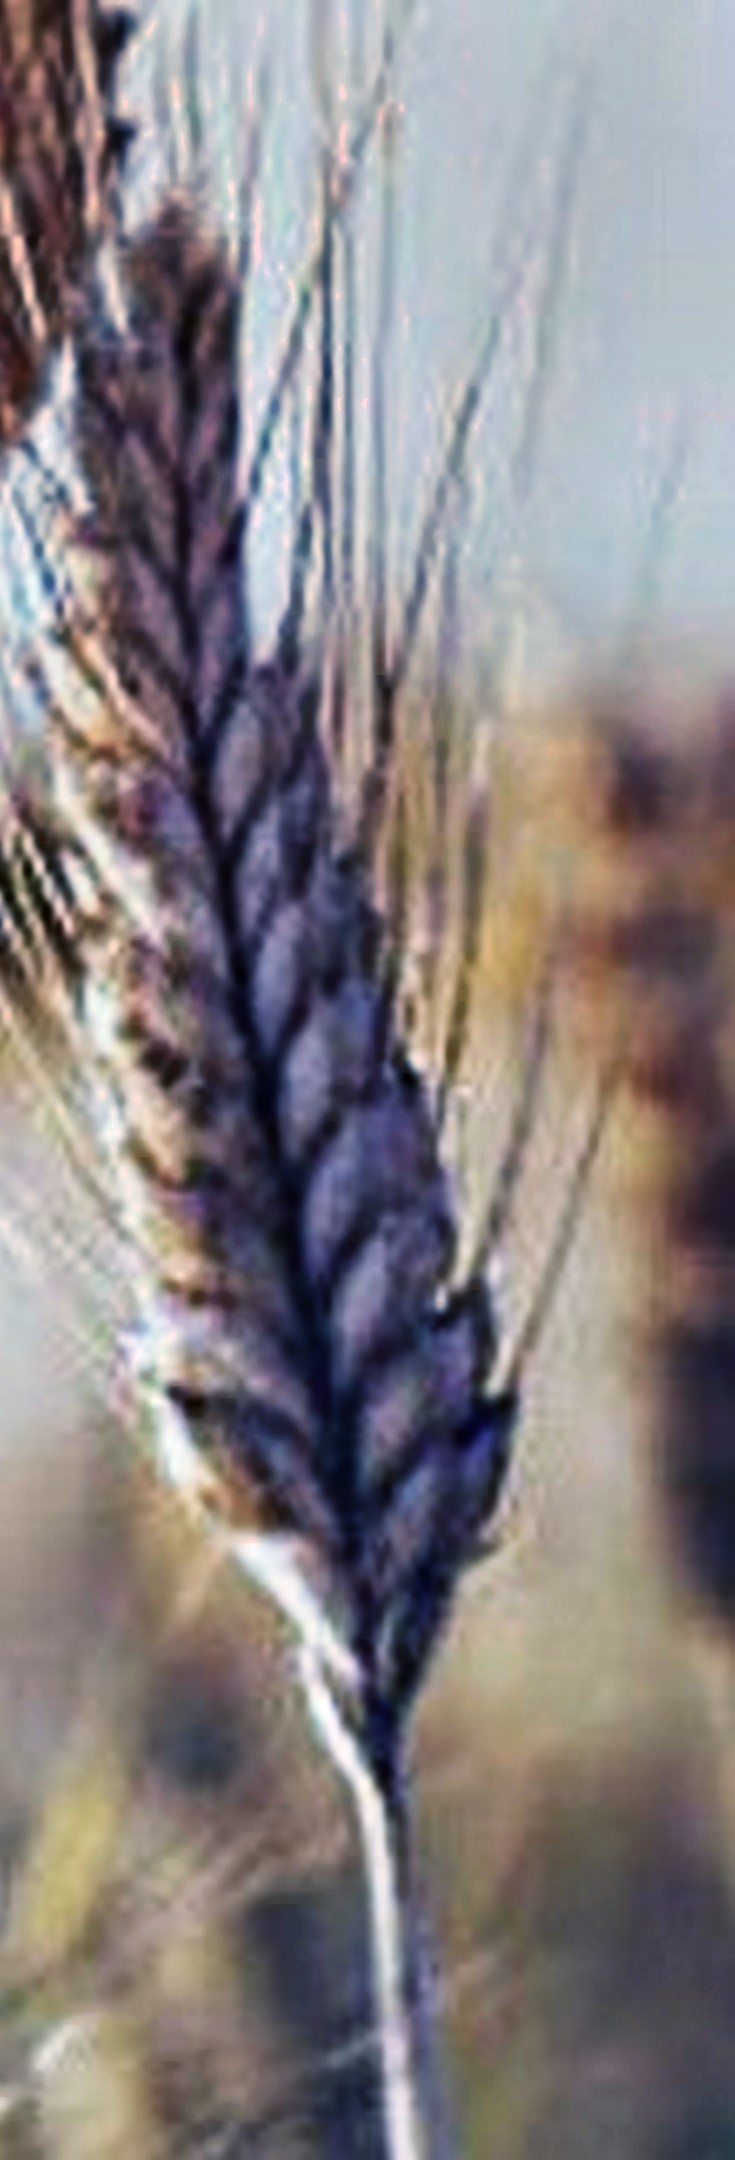Healthy Wheat: (26, 242, 577, 1591)
